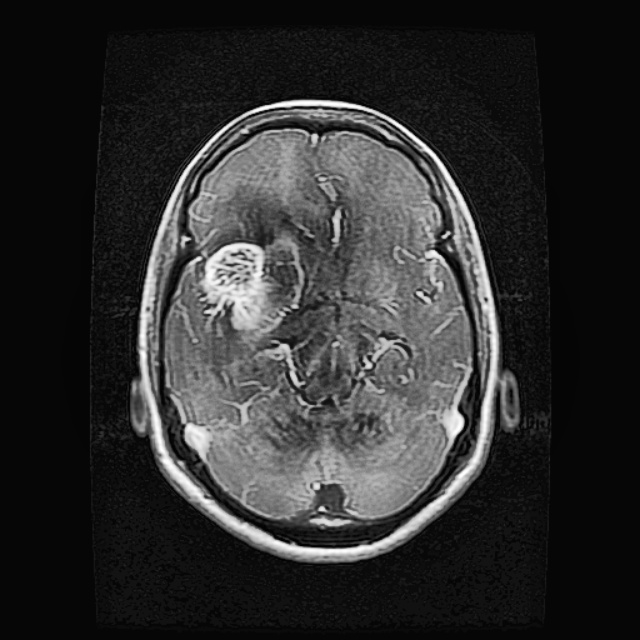Glioma: (200, 233, 304, 334)
